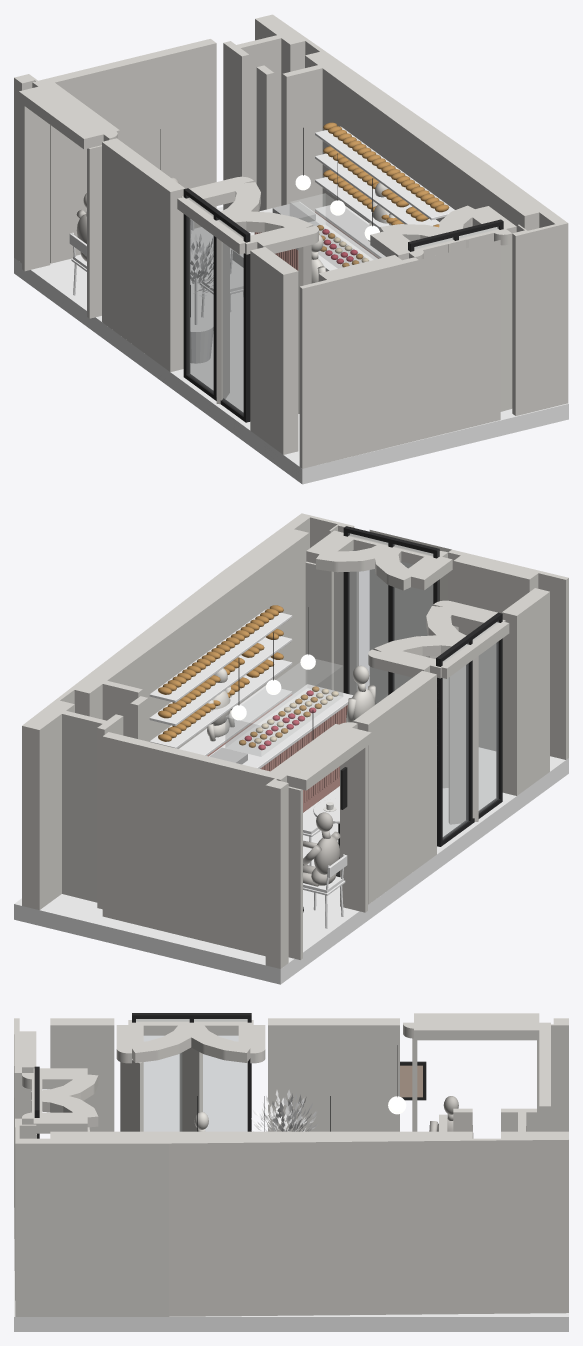
Rendered from interior_LB2.glb.
3 views of the same model, one above another, from view 1: azimuth 30°, elevation 25°; view 2: azimuth 150°, elevation 25°; view 3: azimuth 270°, elevation 25° (orthographic). The views are drawn at different scales.
Visible parts, largest first — view 1: MUROS_LB2.001; view 2: MUROS_LB2.001; view 3: MUROS_LB2.001.
Boxes of the visible parts, left/top/right/bottom form: MUROS_LB2.001: left=14, top=14, right=568, bottom=484; MUROS_LB2.001: left=14, top=513, right=568, bottom=984; MUROS_LB2.001: left=14, top=1013, right=568, bottom=1331.
Bounding box in the file's own units: 3.7 × 2.6 × 6.67.
